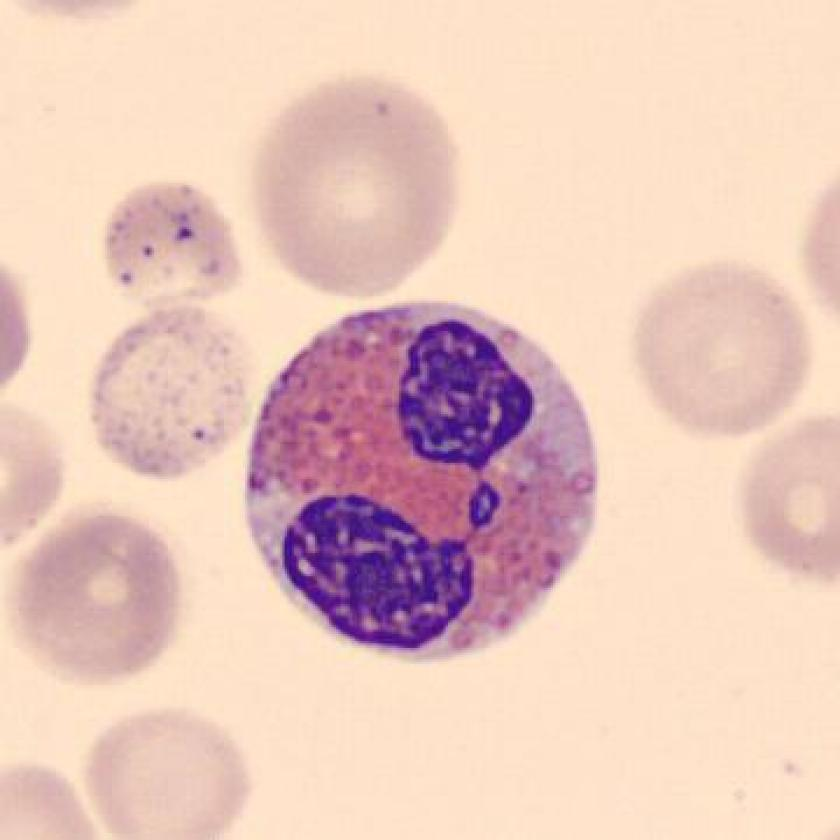eosinophil: (232, 288, 612, 681)
